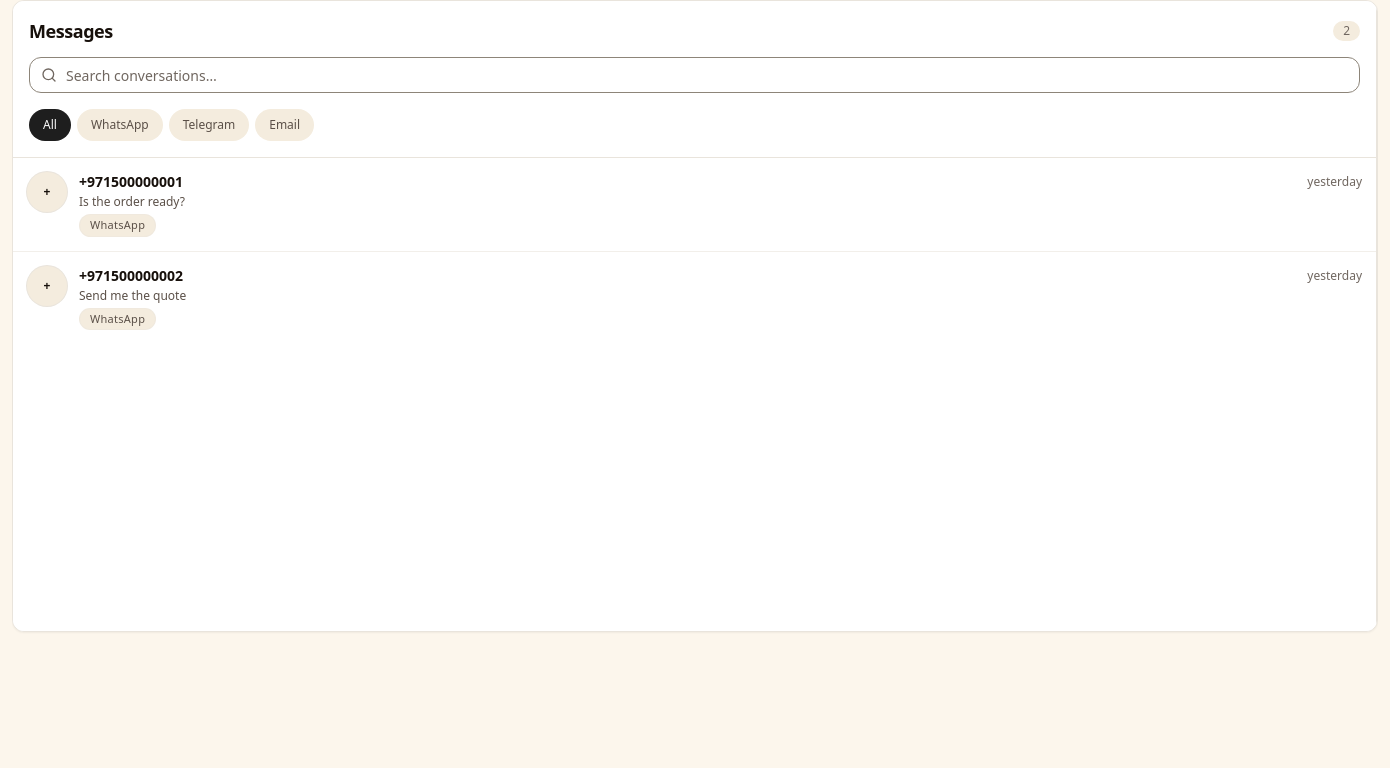
it: InboxWorkspace on a phone › shows the list first, then one thread with a Back button, then the list again
The width and height of the screenshot is (1390, 768).
Expected: the field labelled "Reply" is not shown
Click the button "+ +971500000001 yesterday Is the order ready? WhatsApp": (47, 192) [13, 158, 1376, 252]
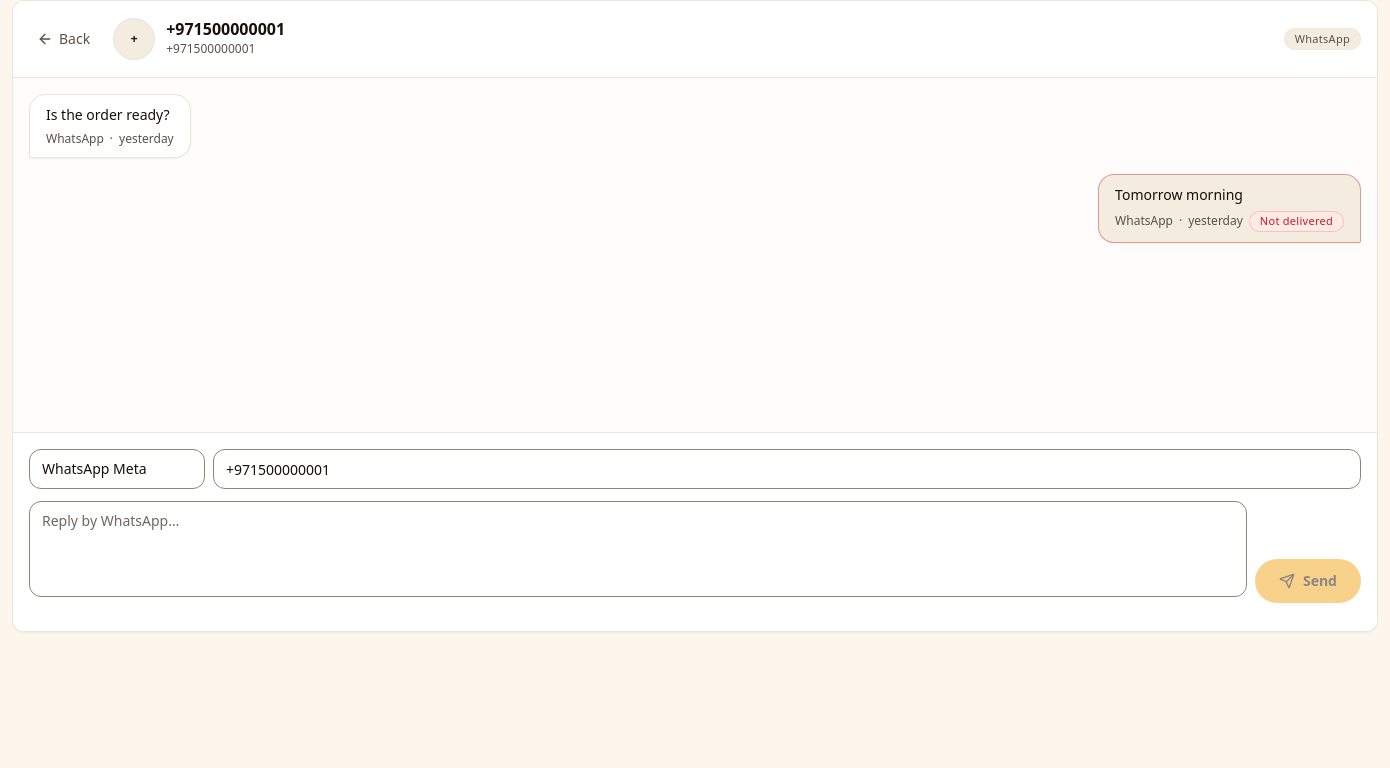
Expected: the search field labelled "Search conversations" is not shown
Expected: the text "Tomorrow morning" is shown, [1115, 185, 1243, 204]
Expected: the text box labelled "Reply" is shown, [29, 501, 1247, 597]
Click the button with aria-label "Back to conversations": (64, 39) [25, 17, 102, 61]
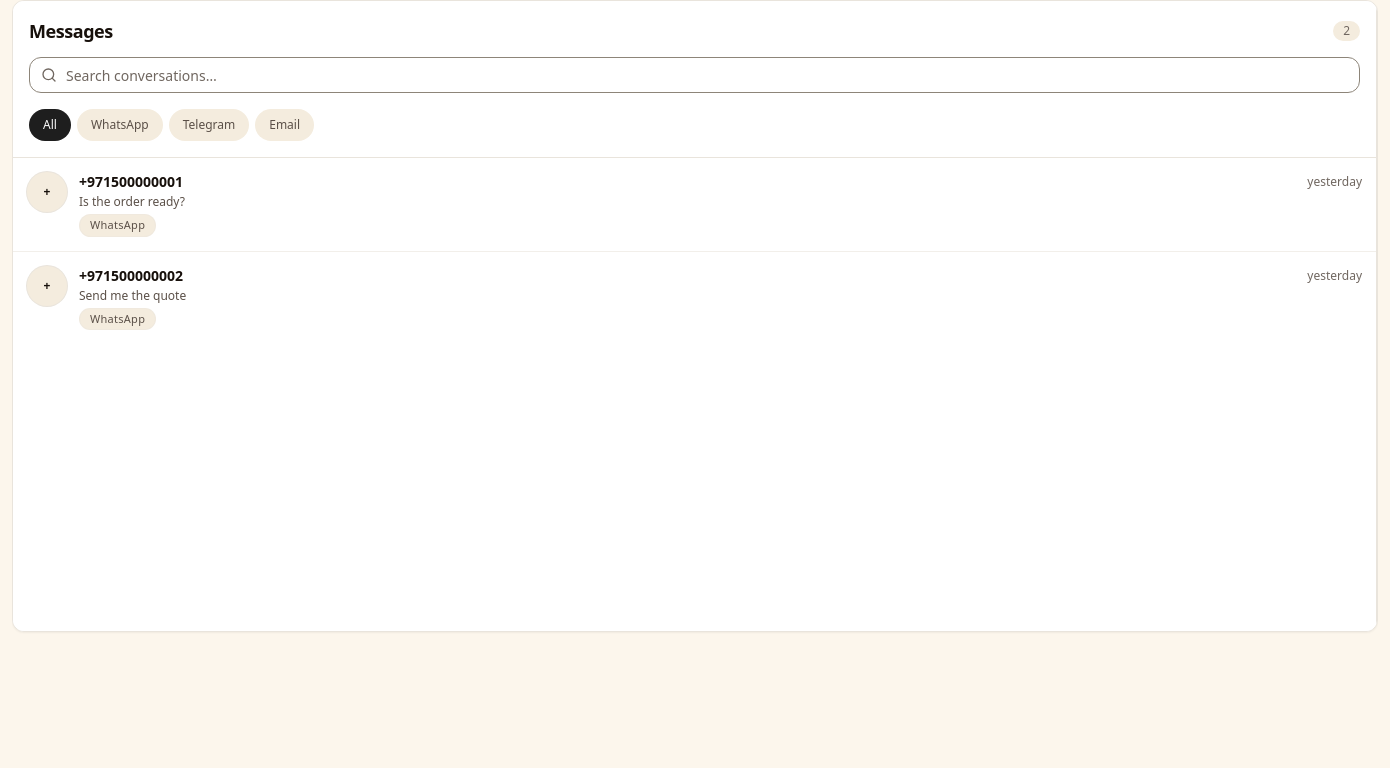
Expected: the search field labelled "Search conversations" is shown, [29, 57, 1360, 93]
Expected: the text box labelled "Reply" is gone
